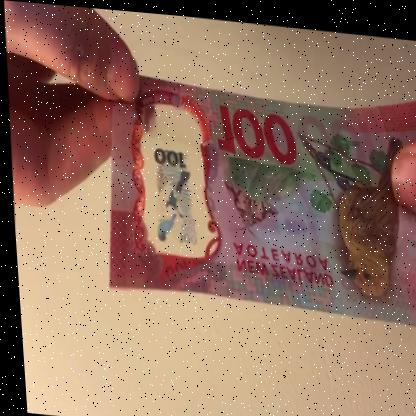100B: (141, 130, 203, 250)
